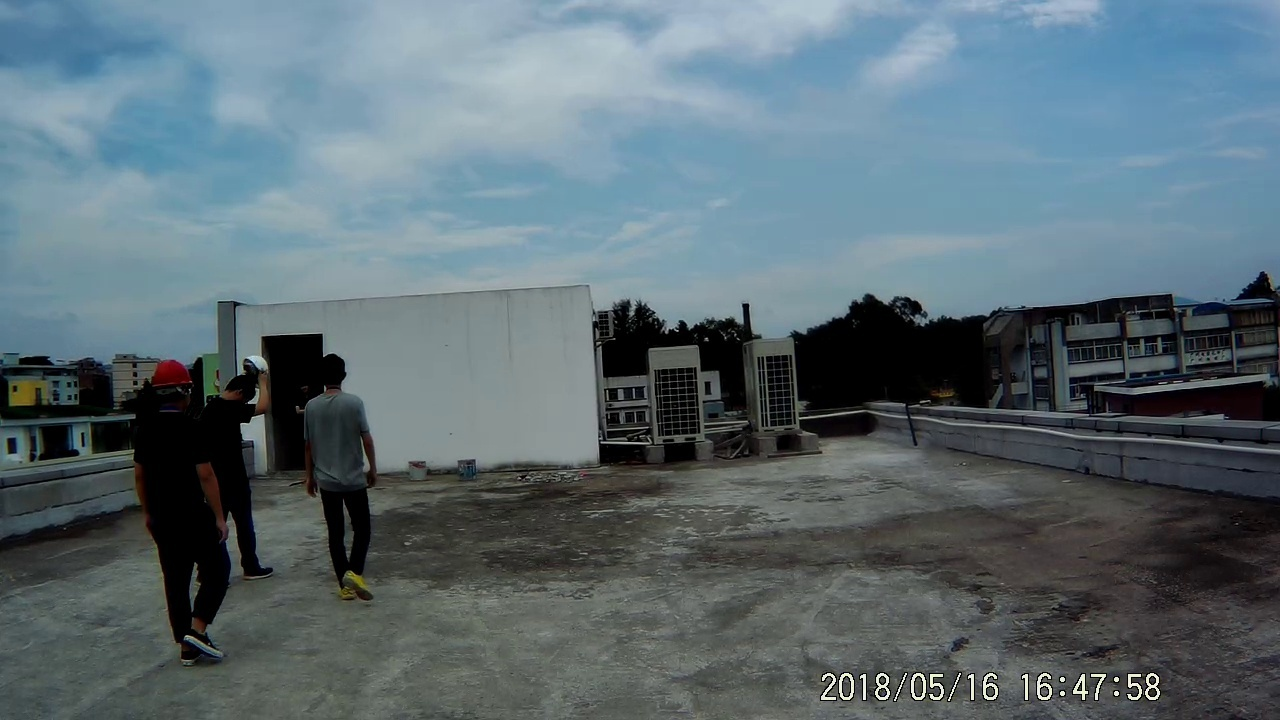none: (314, 350, 352, 396), (222, 369, 256, 409)
red: (146, 353, 191, 413)
